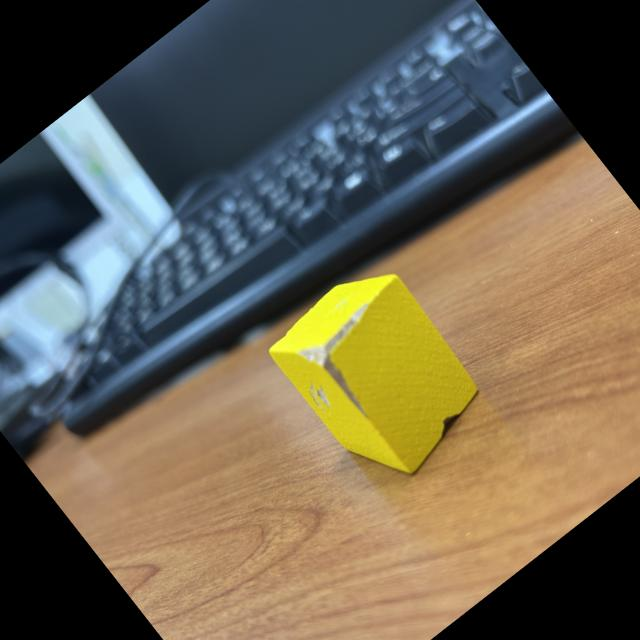broken: (260, 250, 501, 500)
